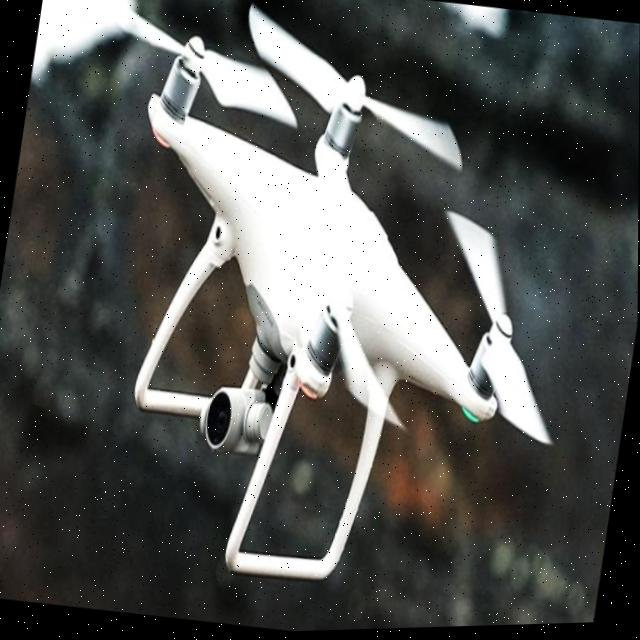drones: (0, 0, 613, 638)
